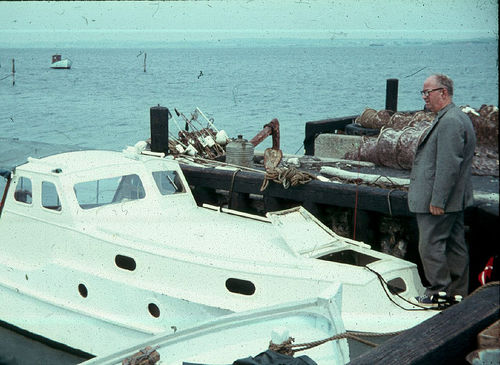without_mask: (418, 74, 458, 115)
